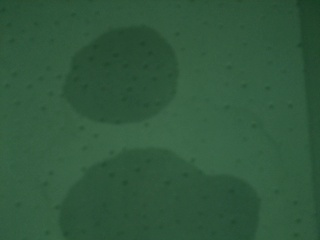Water_detected: (85, 154, 215, 240), (78, 32, 160, 106)
